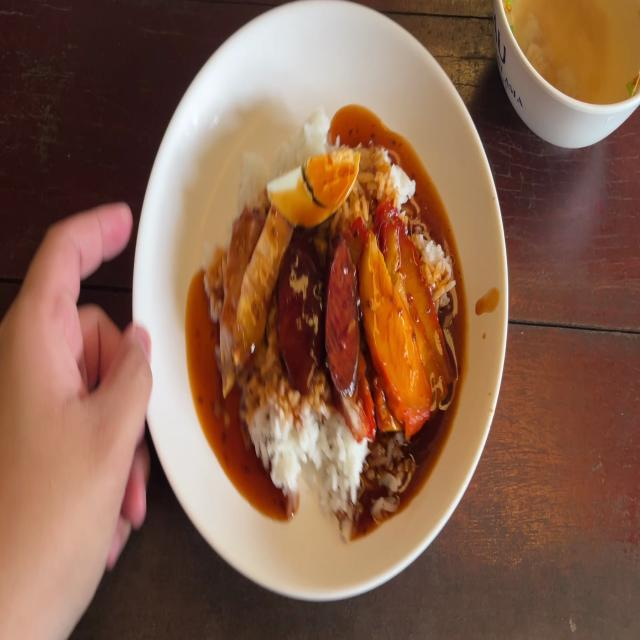red_pork_and_crispy_pork: (270, 145, 354, 213)
stir_fried_basil: (277, 238, 357, 386)
